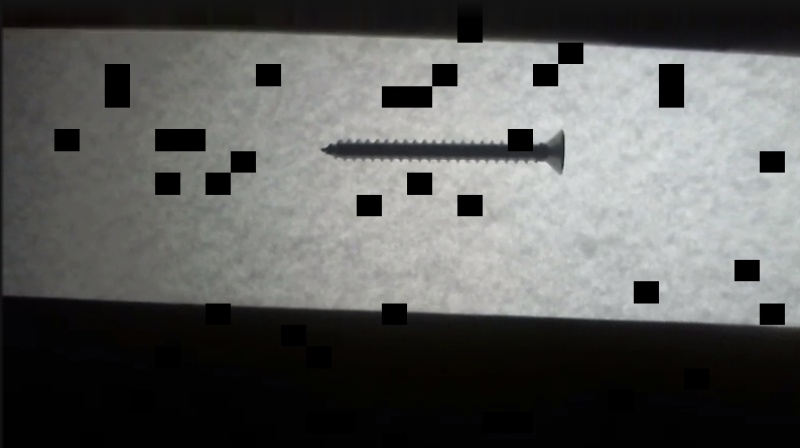S002: (317, 125, 568, 177)
